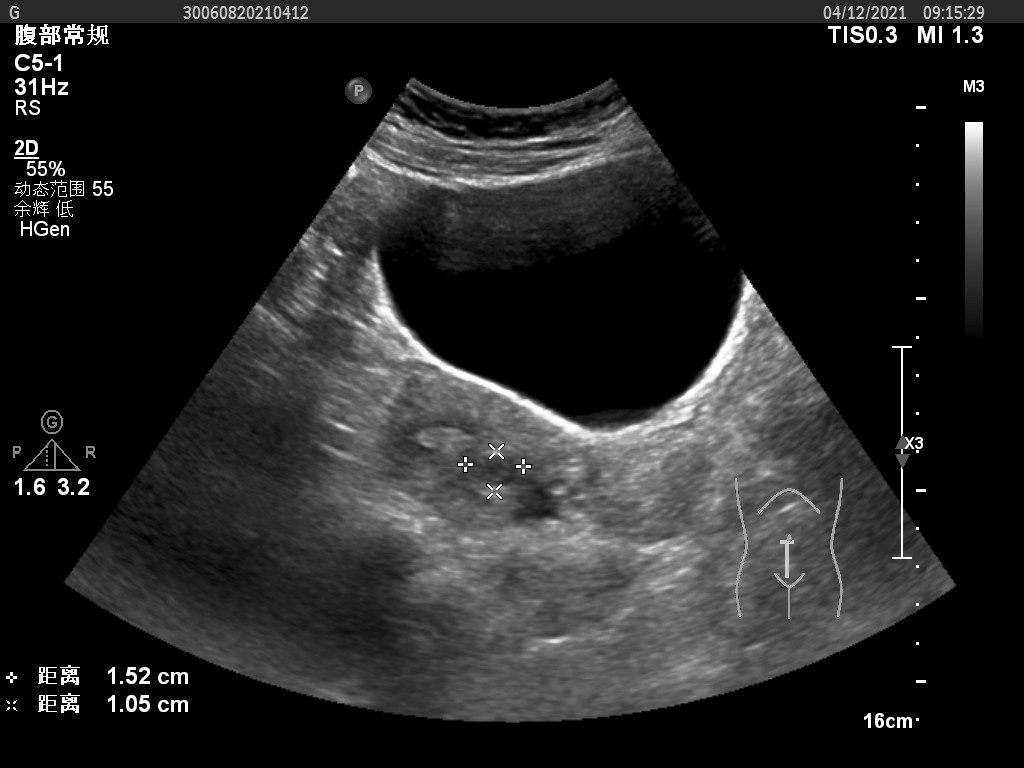肌瘤: (475, 455, 520, 484)
